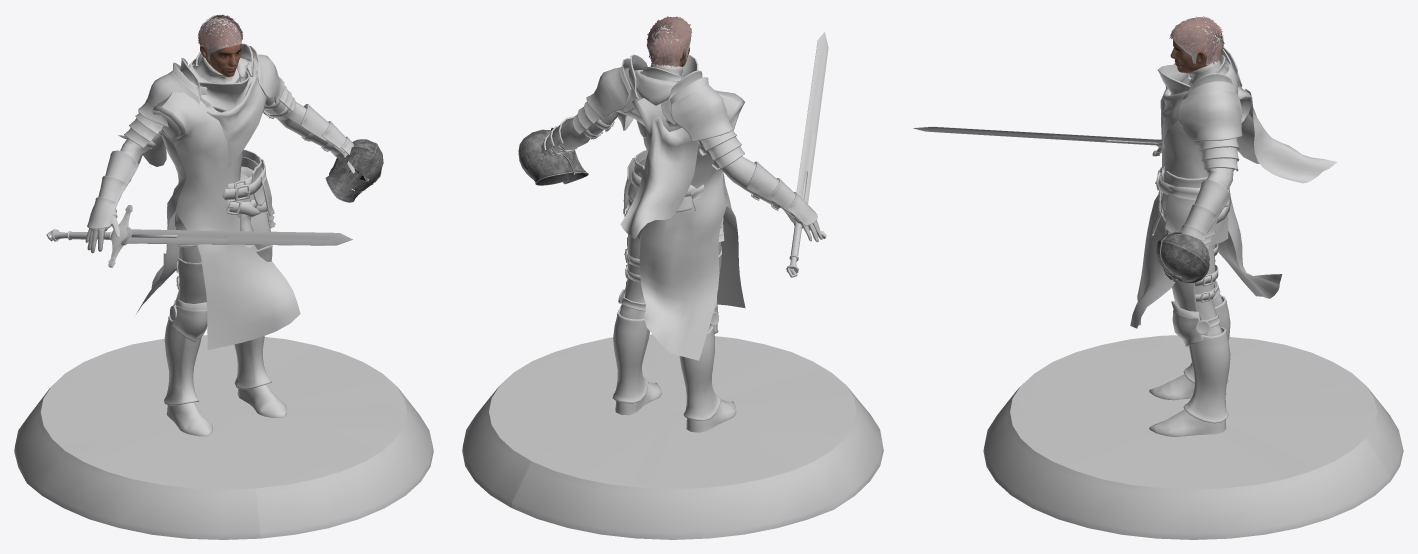
The model's file is ravens-s2-templar-knight-preview.fbx.
3 renders of one model, left to right at view 1: azimuth 30°, elevation 25°; view 2: azimuth 150°, elevation 25°; view 3: azimuth 270°, elevation 25°, orthographic.
Visible parts, largest first — view 1: Meshes:pCylinder1_MI_Cynder_0_0, Shirt_out_A_MI_Shirt_0_0, LongSword_Equip_MI_LongSword_0_0, MetalCalf_MI_BottomArmor_0_0, Shoulder_Armor_A_MI_UpperArmor_0_0, Shirt_in_A_MI_Shirt_0_0, Shoulder_Armor_B_MI_UpperArmor_0_0, Cloth_F_MI_ShoulderCloth_0_0, MetalShoes_MI_BottomArmor_0_0, LowerArms_Armor_R_MI_UpperArmor_0_0, Helmet_F2_MI_Helmet_0_0, Metal_Pelvis_MI_BottomArmor_0_0 (+8 smaller); view 2: Meshes:pCylinder1_MI_Cynder_0_0, Shirt_out_A_MI_Shirt_0_0, Shoulder_Armor_A_MI_UpperArmor_0_0, MetalCalf_MI_BottomArmor_0_0, Cloth_B_MI_ShoulderCloth_0_0, LongSword_Equip_MI_LongSword_0_0, Shoulder_Armor_B_MI_UpperArmor_0_0, Shirt_in_A_MI_Shirt_0_0, Helmet_B2_MI_Helmet_0_0, Hair_main_MI_Hair_0_0, LowerArms_Armor_R_MI_UpperArmor_0_0, MetalShoes_MI_BottomArmor_0_0 (+3 smaller); view 3: Meshes:pCylinder1_MI_Cynder_0_0, Shirt_out_A_MI_Shirt_0_0, Shoulder_Armor_A_MI_UpperArmor_0_0, MetalCalf_MI_BottomArmor_0_0, Cloth_B_MI_ShoulderCloth_0_0, MetalShoes_MI_BottomArmor_0_0, Metal_Pelvis_MI_BottomArmor_0_0, Shoulder_Armor_B_MI_UpperArmor_0_0, Helmet_B2_MI_Helmet_0_0, LowerArms_Armor_L_MI_UpperArmor_0_0, Hair_main_MI_Hair_0_0, LongSword_Equip_MI_LongSword_0_0 (+6 smaller).
Part boxes in pixels (left/top/right/bottom): Meshes:pCylinder1_MI_Cynder_0_0: left=14, top=335, right=433, bottom=539; Shirt_out_A_MI_Shirt_0_0: left=136, top=64, right=300, bottom=349; LongSword_Equip_MI_LongSword_0_0: left=46, top=205, right=352, bottom=267; MetalCalf_MI_BottomArmor_0_0: left=164, top=315, right=271, bottom=405; Shoulder_Armor_A_MI_UpperArmor_0_0: left=138, top=43, right=284, bottom=127; Shirt_in_A_MI_Shirt_0_0: left=113, top=56, right=347, bottom=246; Shoulder_Armor_B_MI_UpperArmor_0_0: left=124, top=51, right=295, bottom=147; Cloth_F_MI_ShoulderCloth_0_0: left=200, top=70, right=265, bottom=167; MetalShoes_MI_BottomArmor_0_0: left=166, top=384, right=286, bottom=436; LowerArms_Armor_R_MI_UpperArmor_0_0: left=87, top=150, right=138, bottom=229; Helmet_F2_MI_Helmet_0_0: left=325, top=147, right=381, bottom=202; Metal_Pelvis_MI_BottomArmor_0_0: left=174, top=149, right=275, bottom=247; Meshes:pCylinder1_MI_Cynder_0_0: left=462, top=334, right=883, bottom=539; Shirt_out_A_MI_Shirt_0_0: left=632, top=90, right=745, bottom=360; Shoulder_Armor_A_MI_UpperArmor_0_0: left=586, top=54, right=733, bottom=141; MetalCalf_MI_BottomArmor_0_0: left=612, top=308, right=720, bottom=420; Cloth_B_MI_ShoulderCloth_0_0: left=620, top=116, right=698, bottom=238; LongSword_Equip_MI_LongSword_0_0: left=784, top=32, right=828, bottom=277; Shoulder_Armor_B_MI_UpperArmor_0_0: left=572, top=55, right=744, bottom=169; Shirt_in_A_MI_Shirt_0_0: left=548, top=61, right=795, bottom=238; Helmet_B2_MI_Helmet_0_0: left=518, top=129, right=573, bottom=185; Hair_main_MI_Hair_0_0: left=646, top=16, right=691, bottom=67; LowerArms_Armor_R_MI_UpperArmor_0_0: left=746, top=161, right=817, bottom=225; MetalShoes_MI_BottomArmor_0_0: left=615, top=381, right=736, bottom=432; Meshes:pCylinder1_MI_Cynder_0_0: left=983, top=335, right=1403, bottom=539; Shirt_out_A_MI_Shirt_0_0: left=1130, top=62, right=1282, bottom=328; Shoulder_Armor_A_MI_UpperArmor_0_0: left=1177, top=47, right=1242, bottom=140; MetalCalf_MI_BottomArmor_0_0: left=1183, top=295, right=1230, bottom=423; Cloth_B_MI_ShoulderCloth_0_0: left=1237, top=89, right=1336, bottom=183; MetalShoes_MI_BottomArmor_0_0: left=1149, top=374, right=1226, bottom=436; Metal_Pelvis_MI_BottomArmor_0_0: left=1155, top=167, right=1229, bottom=249; Shoulder_Armor_B_MI_UpperArmor_0_0: left=1158, top=55, right=1239, bottom=171; Helmet_B2_MI_Helmet_0_0: left=1161, top=233, right=1209, bottom=283; LowerArms_Armor_L_MI_UpperArmor_0_0: left=1178, top=179, right=1229, bottom=243; Hair_main_MI_Hair_0_0: left=1169, top=16, right=1224, bottom=64; LongSword_Equip_MI_LongSword_0_0: left=912, top=126, right=1237, bottom=156.
Size of the model in its own units: 17770 by 20445 by 20815.
